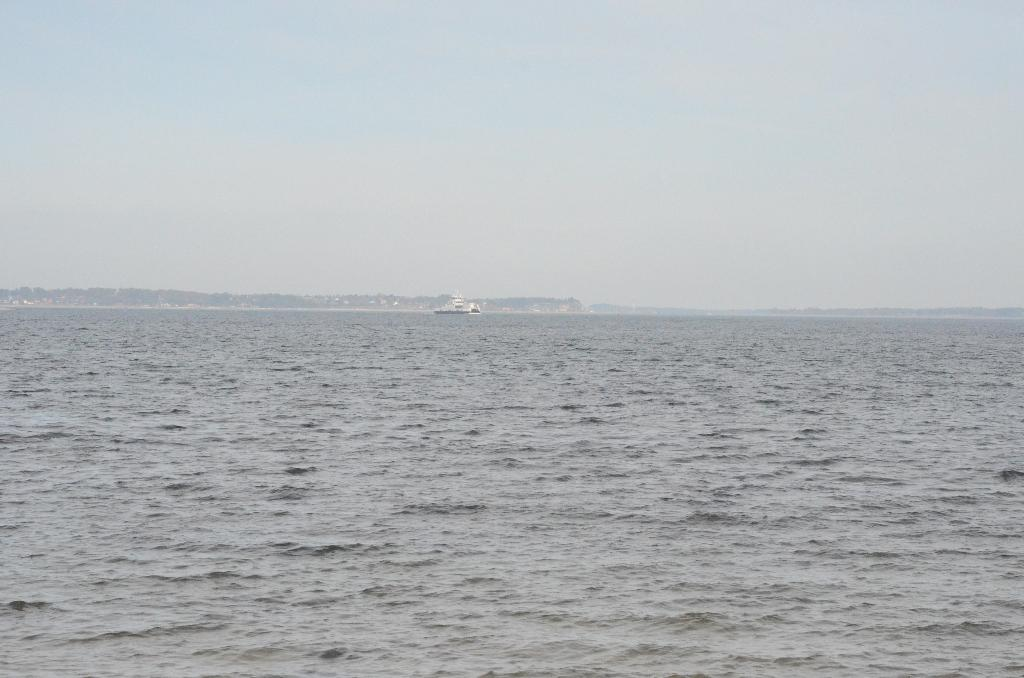PassengerShip: (426, 285, 484, 317)
